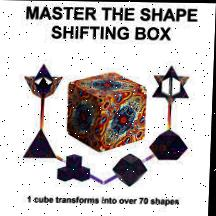cube: (69, 73, 149, 153)
